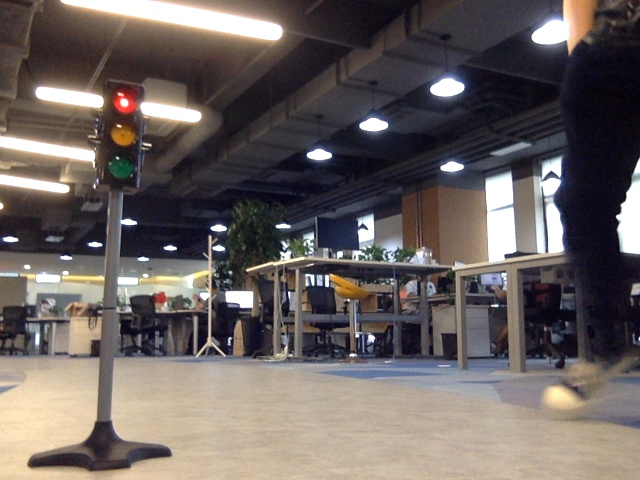red: (105, 88, 136, 188)
